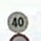limite 40: (6, 9, 29, 33)
